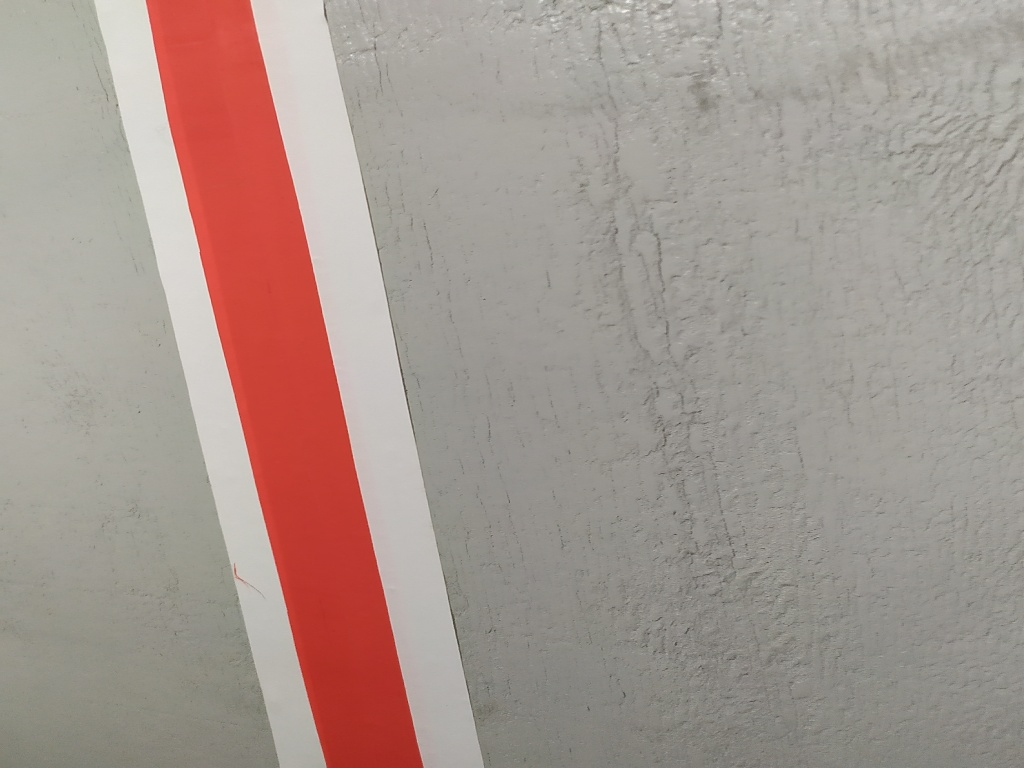reta: (90, 4, 483, 768)
